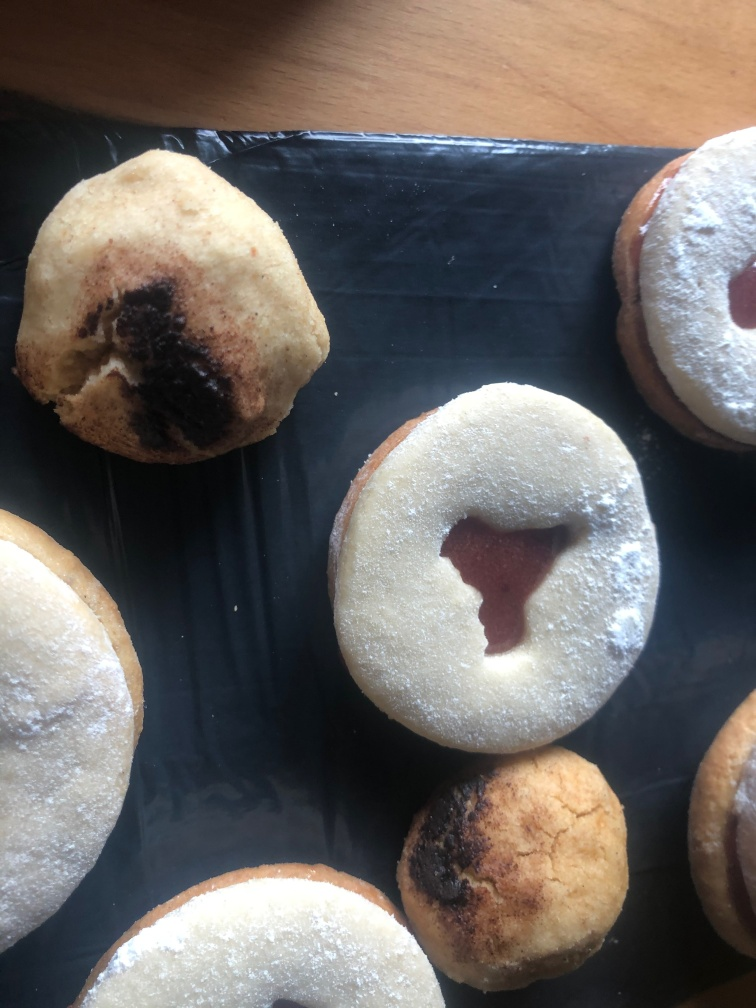christmas shortbread with jam: (329, 375, 663, 755), (1, 503, 147, 959), (83, 859, 446, 1007), (615, 120, 755, 449)
snowball: (16, 147, 337, 473), (405, 749, 627, 989)
